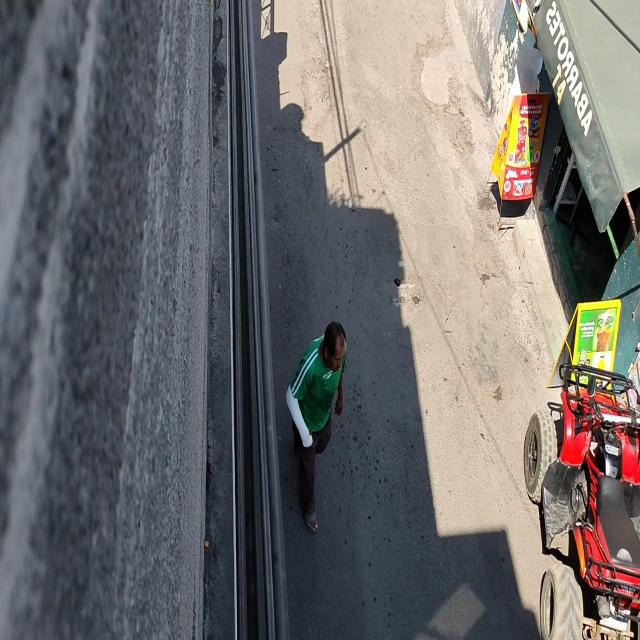adult: (284, 319, 349, 540)
